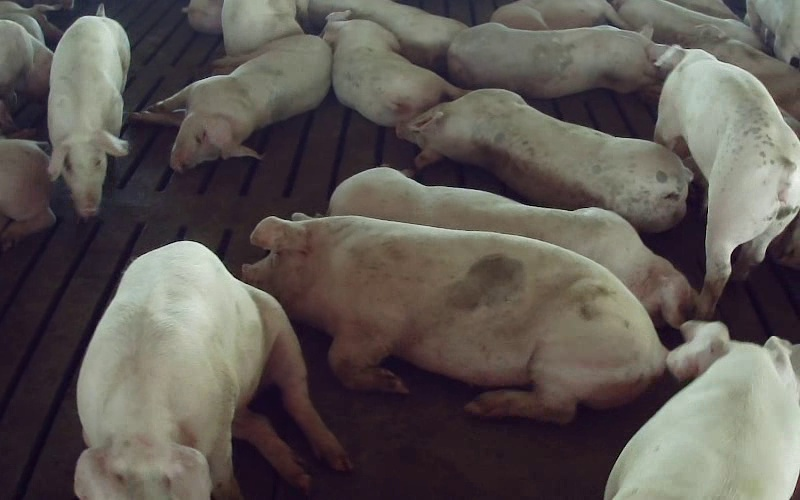pig: (75, 242, 350, 499), (330, 167, 696, 326), (396, 89, 691, 231), (654, 46, 799, 318), (605, 322, 799, 499), (129, 34, 331, 171), (48, 4, 129, 217), (447, 22, 664, 97), (322, 11, 463, 126), (308, 0, 467, 72), (690, 25, 799, 120), (613, 0, 761, 48), (221, 0, 302, 55), (490, 0, 625, 29)
